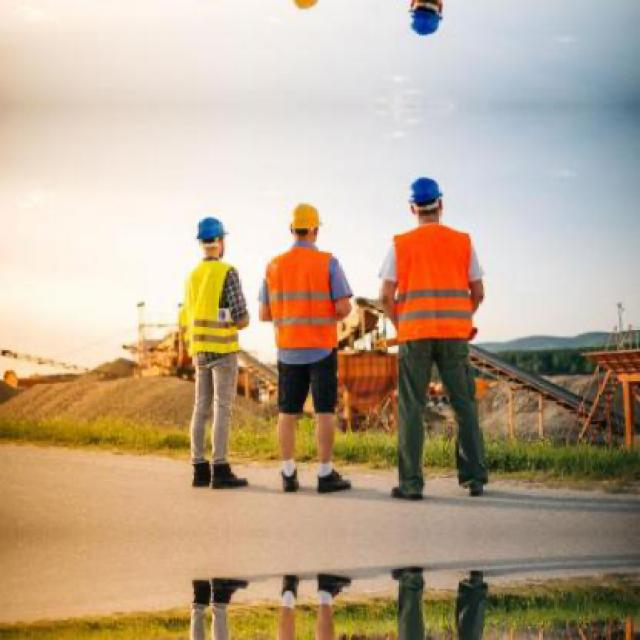helmet: (405, 170, 446, 225), (285, 197, 326, 250), (404, 0, 448, 45), (194, 208, 229, 264), (284, 0, 328, 17)
